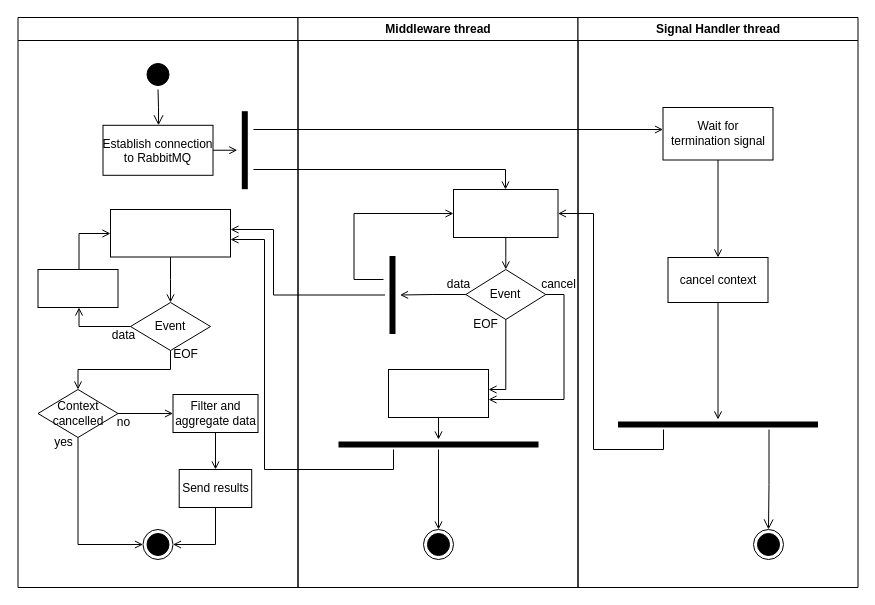
This 875x605 diagram has some shape labels left out. The box of each missing label's shape, as (x1, y1, x2, y2) in pixels:
close message channel: (388, 368, 488, 418)
Main thread: (17, 16, 298, 588)
Store price or average: (37, 268, 118, 308)
Wait for message or context cancellation: (452, 188, 558, 238)
Wait for message or EOF: (110, 208, 230, 257)
